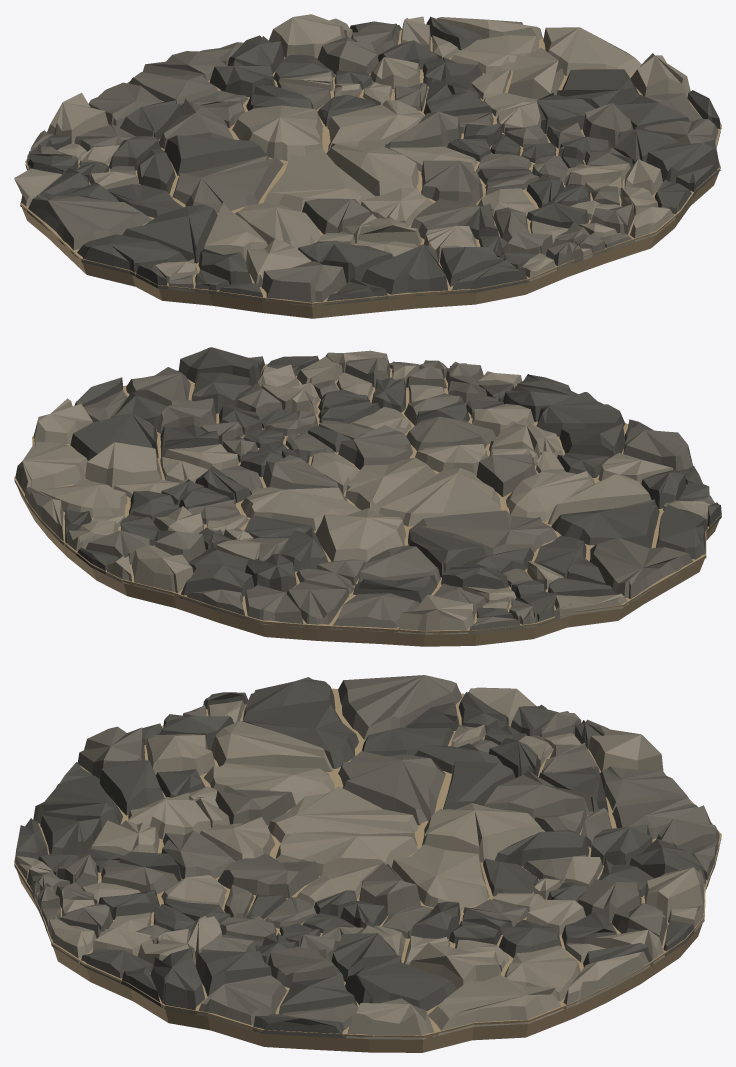
File: desert-pavement.glb
3 renders of one model, top to bottom at view 1: azimuth 30°, elevation 25°; view 2: azimuth 150°, elevation 25°; view 3: azimuth 270°, elevation 25°, orthographic. The views are drawn at different scales.
Visible parts, largest first — view 1: irregular_multiscale_chipped_clast_armor, irregular_multiscale_chipped_clast_armor.001, irregular_multiscale_chipped_clast_armor.002, thin_closed_sandy_substrate; view 2: irregular_multiscale_chipped_clast_armor.001, irregular_multiscale_chipped_clast_armor, irregular_multiscale_chipped_clast_armor.002, thin_closed_sandy_substrate; view 3: irregular_multiscale_chipped_clast_armor.001, irregular_multiscale_chipped_clast_armor, irregular_multiscale_chipped_clast_armor.002, thin_closed_sandy_substrate.
Part boxes in pixels (bbox=[...]): irregular_multiscale_chipped_clast_armor: bbox=[26, 16, 721, 305]; irregular_multiscale_chipped_clast_armor.001: bbox=[14, 14, 690, 287]; irregular_multiscale_chipped_clast_armor.002: bbox=[25, 23, 720, 306]; thin_closed_sandy_substrate: bbox=[20, 29, 721, 318]; irregular_multiscale_chipped_clast_armor.001: bbox=[14, 350, 709, 634]; irregular_multiscale_chipped_clast_armor: bbox=[64, 347, 721, 625]; irregular_multiscale_chipped_clast_armor.002: bbox=[83, 358, 714, 633]; thin_closed_sandy_substrate: bbox=[14, 359, 721, 646]; irregular_multiscale_chipped_clast_armor.001: bbox=[14, 687, 706, 1039]; irregular_multiscale_chipped_clast_armor: bbox=[14, 677, 707, 1037]; irregular_multiscale_chipped_clast_armor.002: bbox=[26, 675, 721, 1030]; thin_closed_sandy_substrate: bbox=[14, 688, 721, 1052].
Bounding box in the file's own units: 4.72 × 0.3234 × 4.06.
